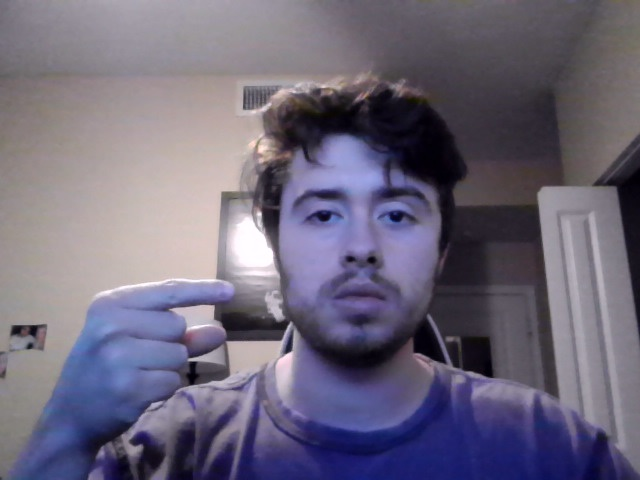g: (52, 276, 236, 454)
